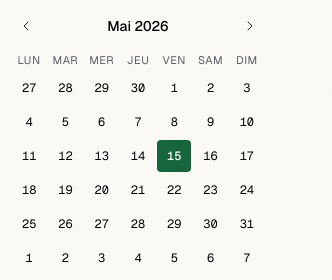
Scenario: Calendar — mode single › bascule de mois via les boutons de navigation
Click the button named "Mois suivant" at (250, 26), box x1=236 y1=12 x2=264 y2=40
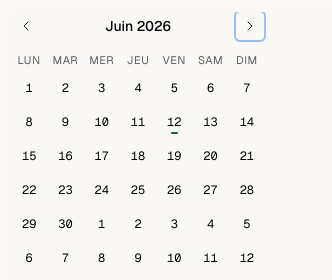
Expected: the text "juin 2026" is shown, x1=105 y1=16 x2=171 y2=36
Click the button named "Mois précédent" at (26, 26), box x1=12 y1=12 x2=40 y2=40
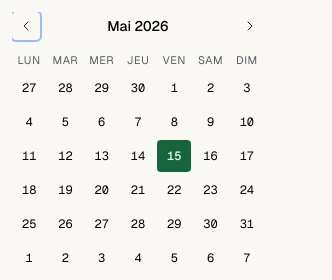
Click the button named "Mois précédent" at (26, 26), box x1=12 y1=12 x2=40 y2=40
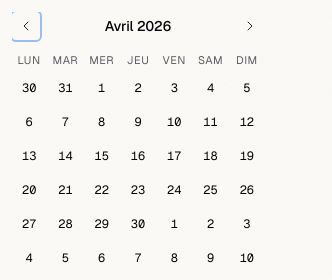
Expected: the text "avril 2026" is shown, x1=105 y1=16 x2=171 y2=36
